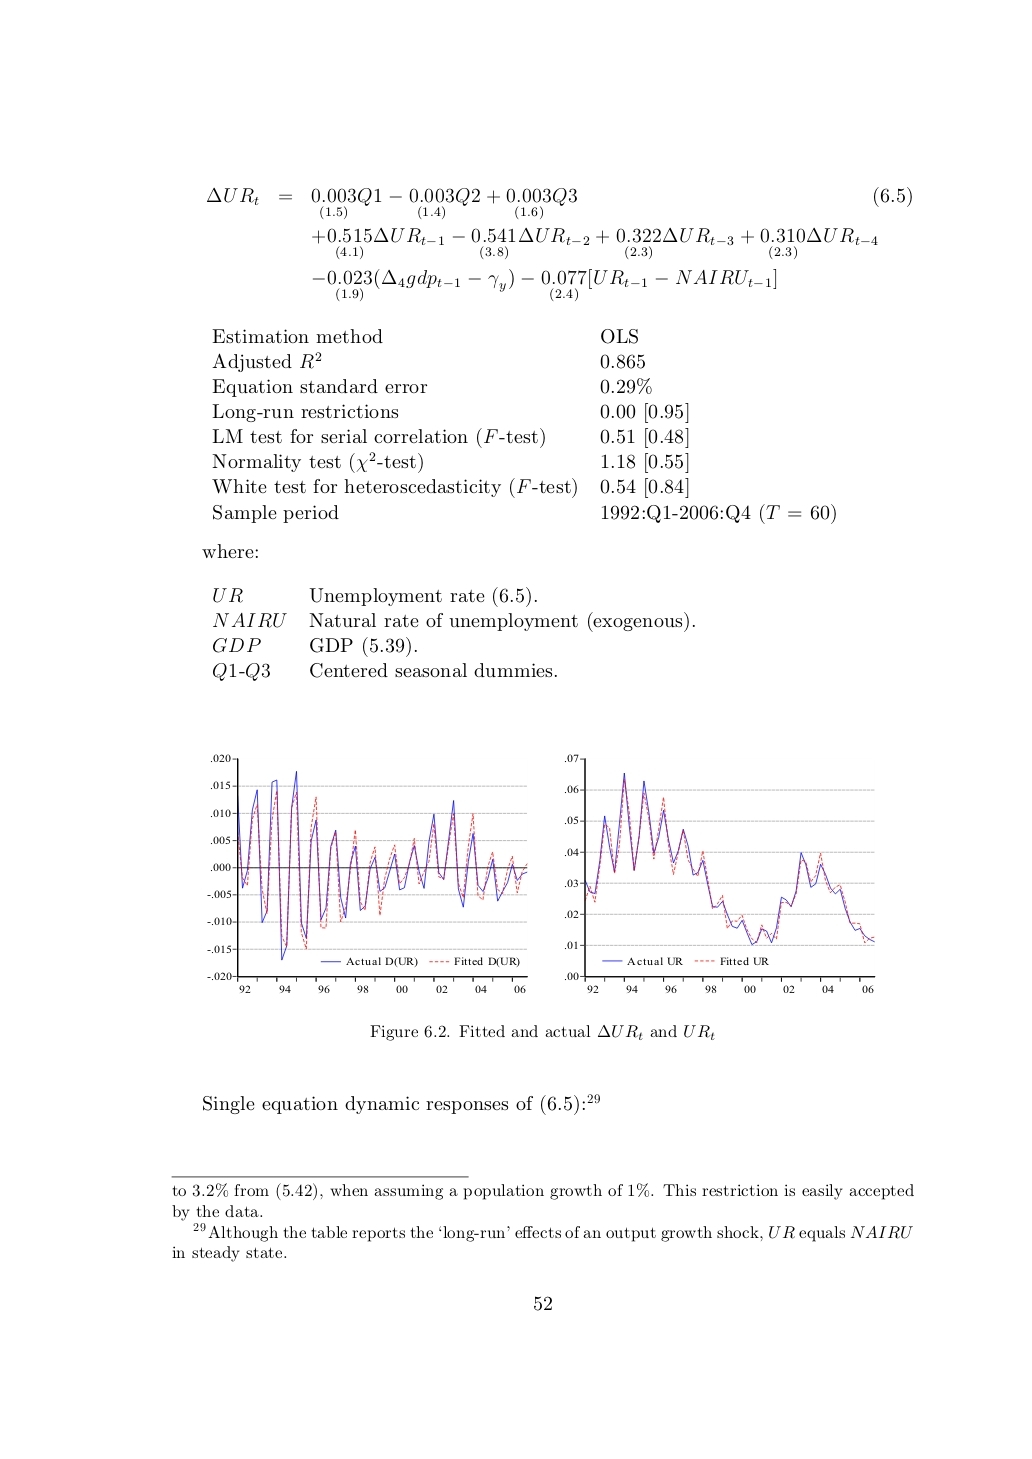Table: (212, 329, 835, 524)
figure: (207, 752, 527, 994), (565, 754, 875, 992)
formula: (207, 186, 911, 220), (312, 225, 877, 260), (312, 268, 776, 303)
